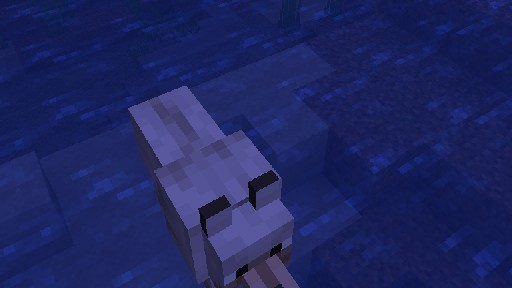wolf: (127, 84, 299, 288)
